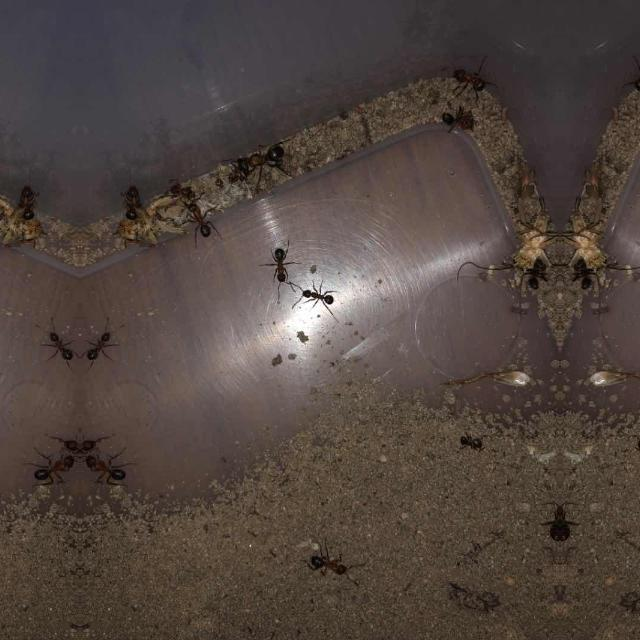Formica: (442, 50, 492, 100), (299, 544, 356, 580), (232, 141, 282, 179), (82, 322, 115, 373), (44, 322, 76, 373), (294, 284, 344, 312), (188, 203, 218, 247), (79, 459, 127, 486), (31, 459, 79, 486), (266, 242, 294, 288), (116, 183, 146, 225), (13, 183, 42, 225), (79, 430, 111, 464), (47, 430, 79, 464), (450, 424, 486, 448), (626, 49, 640, 100), (162, 177, 195, 196), (632, 424, 640, 446)
